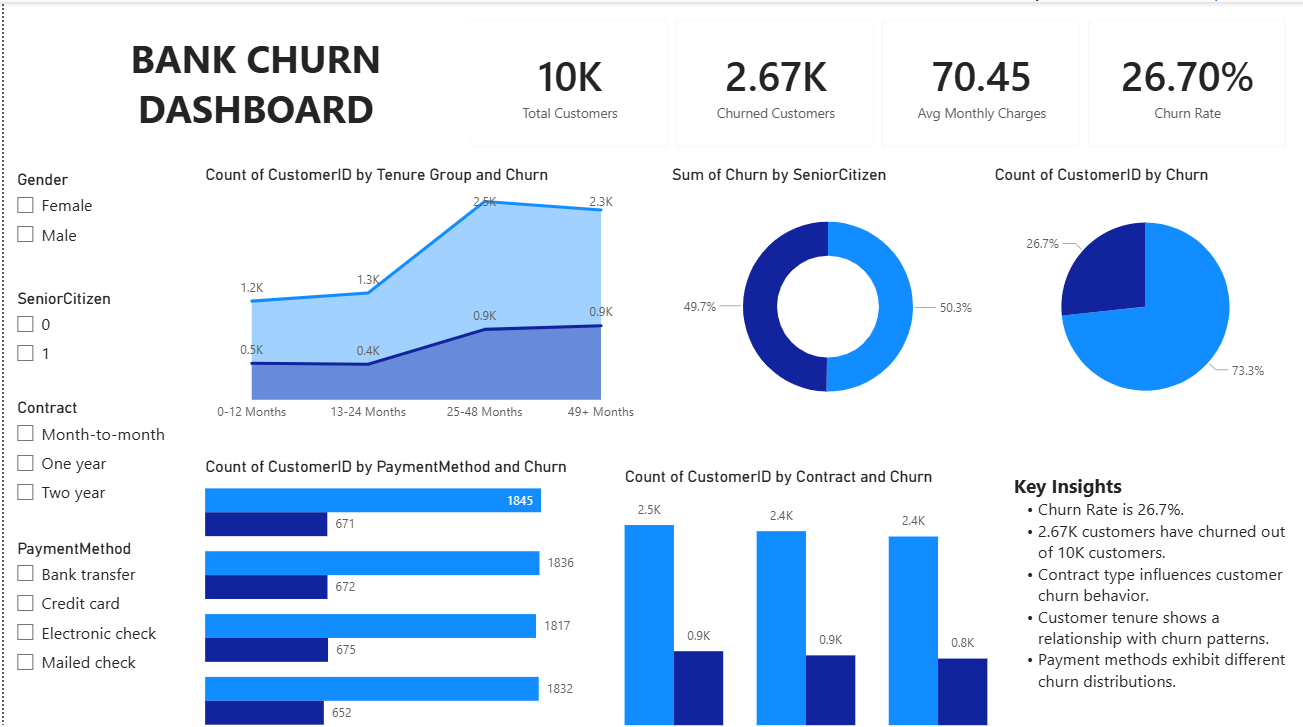

What the dashboard file says about the page in this screenshot:
{"tool":"powerbi","page":{"name":"Page 1","canvas":[1280,720],"ordinal":0},"visuals":[{"type":"cardVisual","fields":{"Data":["Bank_Churn_Classification_Dataset.Total Customers","Bank_Churn_Classification_Dataset.Churned Customers","Bank_Churn_Classification_Dataset.Avg Monthly Charges","Bank_Churn_Classification_Dataset.Churn Rate"]},"box":[442.4,0,838.3,160.9],"z":0},{"type":"pieChart","fields":{"Y":["CountNonNull(Bank_Churn_Classification_Dataset.CustomerID)"],"Category":["Bank_Churn_Classification_Dataset.Churn"]},"box":[971.5,160.9,307.9,261.4],"z":1000},{"type":"lineClusteredColumnComboChart","fields":{"Category":["Bank_Churn_Classification_Dataset.Contract"],"Y":["CountNonNull(Bank_Churn_Classification_Dataset.CustomerID)"],"Series":["Bank_Churn_Classification_Dataset.Churn"]},"box":[607,458.7,374.5,261.4],"z":2000},{"type":"clusteredBarChart","fields":{"Category":["Bank_Churn_Classification_Dataset.PaymentMethod"],"Y":["CountNonNull(Bank_Churn_Classification_Dataset.CustomerID)"],"Series":["Bank_Churn_Classification_Dataset.Churn"]},"box":[193.5,448.7,374.5,271.5],"z":3000},{"type":"donutChart","fields":{"Y":["Sum(Bank_Churn_Classification_Dataset.Churn)"],"Category":["Bank_Churn_Classification_Dataset.SeniorCitizen"]},"box":[653.5,160.9,318,261.4],"z":4000},{"type":"lineChart","fields":{"Y":["CountNonNull(Bank_Churn_Classification_Dataset.CustomerID)"],"Series":["Bank_Churn_Classification_Dataset.Churn"],"Category":["Bank_Churn_Classification_Dataset.Tenure Group"]},"box":[193.5,160.9,446.2,261.4],"z":5000},{"type":"slicer","fields":{"Values":["Bank_Churn_Classification_Dataset.Gender"]},"box":[0,160.9,174.7,99.3],"z":6000},{"type":"slicer","fields":{"Values":["Bank_Churn_Classification_Dataset.Contract"]},"box":[0,385.8,174.7,124.4],"z":7000},{"type":"slicer","fields":{"Values":["Bank_Churn_Classification_Dataset.PaymentMethod"]},"box":[0,524.1,174.7,153.3],"z":8000},{"type":"slicer","fields":{"Values":["Bank_Churn_Classification_Dataset.SeniorCitizen"]},"box":[0,277.7,174.7,93],"z":9000},{"type":"textbox","box":[990,459,290,261],"z":9001},{"type":"textbox","box":[0,25.1,496.4,109.3],"z":9002}]}

Visuals, with their boxes in screenshot pixels (x1, y1, x2, y2), scaled from the page's 1280x720 canvas onto the 1303x727 screenshot:
cardVisual - Bank_Churn_Classification_Dataset.Total Customers x Bank_Churn_Classification_Dataset.Churned Customers: 450:0:1302:162
pieChart - CountNonNull(Bank_Churn_Classification_Dataset.CustomerID) x Bank_Churn_Classification_Dataset.Churn: 989:162:1302:426
lineClusteredColumnComboChart - Bank_Churn_Classification_Dataset.Contract x CountNonNull(Bank_Churn_Classification_Dataset.CustomerID): 618:463:999:726
clusteredBarChart - Bank_Churn_Classification_Dataset.PaymentMethod x CountNonNull(Bank_Churn_Classification_Dataset.CustomerID): 197:453:578:726
donutChart - Sum(Bank_Churn_Classification_Dataset.Churn) x Bank_Churn_Classification_Dataset.SeniorCitizen: 665:162:989:426
lineChart - CountNonNull(Bank_Churn_Classification_Dataset.CustomerID) x Bank_Churn_Classification_Dataset.Churn: 197:162:651:426
slicer - Bank_Churn_Classification_Dataset.Gender: 0:162:178:263
slicer - Bank_Churn_Classification_Dataset.Contract: 0:390:178:515
slicer - Bank_Churn_Classification_Dataset.PaymentMethod: 0:529:178:684
slicer - Bank_Churn_Classification_Dataset.SeniorCitizen: 0:280:178:374
textbox: 1008:463:1302:726
textbox: 0:25:505:136
